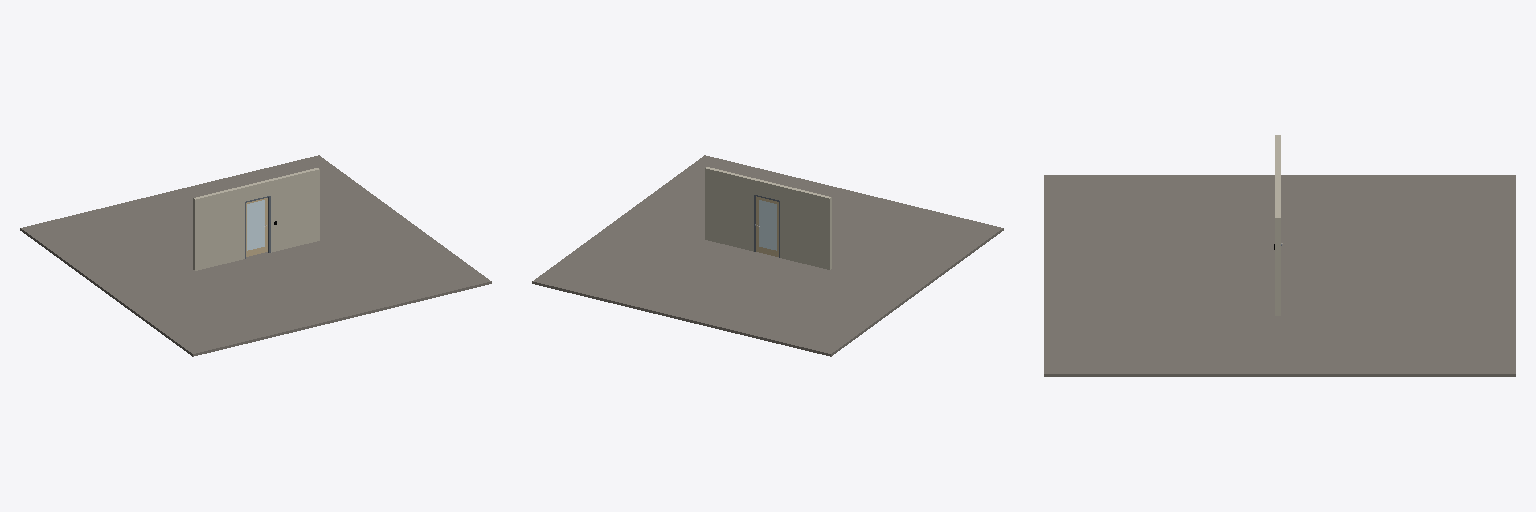
The robot description file, URDF, robot "db0800_swing_single_simple":
<?xml version="1.0" ?>
<robot xmlns:doorbench="https://github.com/adamraudonis/DoorBench/schema/urdf-ext" name="db0800_swing_single_simple">
  <link name="world_env">
    <visual name="floor_vis">
      <origin xyz="0 0 -0.05" rpy="0 0 0"/>
      <geometry>
        <box size="12 12 0.1"/>
      </geometry>
      <material name="mat_floor"/>
    </visual>
    <collision name="floor_col">
      <origin xyz="0 0 -0.05" rpy="0 0 0"/>
      <geometry>
        <box size="12 12 0.1"/>
      </geometry>
    </collision>
    <visual name="wall_left_vis">
      <origin xyz="-1.50525 -0.0435 1.3735" rpy="0 0 0"/>
      <geometry>
        <box size="1.9895 0.145 2.747"/>
      </geometry>
      <material name="mat_wall"/>
    </visual>
    <collision name="wall_left_col">
      <origin xyz="-1.50525 -0.0435 1.3735" rpy="0 0 0"/>
      <geometry>
        <box size="1.9895 0.145 2.747"/>
      </geometry>
    </collision>
    <visual name="wall_right_vis">
      <origin xyz="1.52025 -0.0435 1.3735" rpy="0 0 0"/>
      <geometry>
        <box size="1.9595 0.145 2.747"/>
      </geometry>
      <material name="mat_wall"/>
    </visual>
    <collision name="wall_right_col">
      <origin xyz="1.52025 -0.0435 1.3735" rpy="0 0 0"/>
      <geometry>
        <box size="1.9595 0.145 2.747"/>
      </geometry>
    </collision>
    <visual name="wall_header_vis">
      <origin xyz="0.015 -0.0435 2.487" rpy="0 0 0"/>
      <geometry>
        <box size="1.051 0.145 0.52"/>
      </geometry>
      <material name="mat_wall"/>
    </visual>
    <collision name="wall_header_col">
      <origin xyz="0.015 -0.0435 2.487" rpy="0 0 0"/>
      <geometry>
        <box size="1.051 0.145 0.52"/>
      </geometry>
    </collision>
    <visual name="hinge_0_jamb_vis">
      <origin xyz="-0.4575 0.029 0.259" rpy="3.141593 0 0"/>
      <geometry>
        <mesh filename="../../hardware/hinge_jamb_e1d088f8dc.obj"/>
      </geometry>
      <material name="mat_hinge"/>
    </visual>
    <visual name="hinge_1_jamb_vis">
      <origin xyz="-0.4575 0.029 1.076" rpy="3.141593 0 0"/>
      <geometry>
        <mesh filename="../../hardware/hinge_jamb_e1d088f8dc.obj"/>
      </geometry>
      <material name="mat_hinge"/>
    </visual>
    <visual name="hinge_2_jamb_vis">
      <origin xyz="-0.4575 0.029 1.963" rpy="3.141593 0 0"/>
      <geometry>
        <mesh filename="../../hardware/hinge_jamb_e1d088f8dc.obj"/>
      </geometry>
      <material name="mat_hinge"/>
    </visual>
    <visual name="jamb_hinge_vis">
      <origin xyz="-0.4855 -0.0435 1.0735" rpy="0 0 0"/>
      <geometry>
        <box size="0.05 0.145 2.147"/>
      </geometry>
      <material name="mat_frame"/>
    </visual>
    <collision name="jamb_hinge_col">
      <origin xyz="-0.4855 -0.0435 1.0735" rpy="0 0 0"/>
      <geometry>
        <box size="0.05 0.145 2.147"/>
      </geometry>
    </collision>
    <visual name="strike_1040_wall_n_vis">
      <origin xyz="0.5005 -0.06275 1.04" rpy="0 0 0"/>
      <geometry>
        <box size="0.08 0.1065 0.0366"/>
      </geometry>
      <material name="mat_frame"/>
    </visual>
    <collision name="strike_1040_wall_n_col">
      <origin xyz="0.5005 -0.06275 1.04" rpy="0 0 0"/>
      <geometry>
        <box size="0.08 0.1065 0.0366"/>
      </geometry>
    </collision>
    <visual name="strike_1040_wall_p_vis">
      <origin xyz="0.5005 0.0175 1.04" rpy="0 0 0"/>
      <geometry>
        <box size="0.08 0.016 0.0366"/>
      </geometry>
      <material name="mat_frame"/>
    </visual>
    <collision name="strike_1040_wall_p_col">
      <origin xyz="0.5005 0.0175 1.04" rpy="0 0 0"/>
      <geometry>
        <box size="0.08 0.016 0.0366"/>
      </geometry>
    </collision>
    <visual name="strike_1040_ramp_vis">
      <origin xyz="0.503782 0.018312 1.04" rpy="0 0 -0.588003"/>
      <geometry>
        <box size="0.08 0.036056 0.0366"/>
      </geometry>
      <material name="mat_frame"/>
    </visual>
    <collision name="strike_1040_ramp_col">
      <origin xyz="0.503782 0.018312 1.04" rpy="0 0 -0.588003"/>
      <geometry>
        <box size="0.08 0.036056 0.0366"/>
      </geometry>
    </collision>
    <visual name="strike_1040_back_vis">
      <origin xyz="0.512 0 1.04" rpy="0 0 0"/>
      <geometry>
        <box size="0.057 0.019 0.0366"/>
      </geometry>
      <material name="mat_frame"/>
    </visual>
    <collision name="strike_1040_back_col">
      <origin xyz="0.512 0 1.04" rpy="0 0 0"/>
      <geometry>
        <box size="0.057 0.019 0.0366"/>
      </geometry>
    </collision>
    <visual name="jamb_strike_0_vis">
      <origin xyz="0.5005 -0.0435 0.51085" rpy="0 0 0"/>
      <geometry>
        <box size="0.08 0.145 1.0217"/>
      </geometry>
      <material name="mat_frame"/>
    </visual>
    <collision name="jamb_strike_0_col">
      <origin xyz="0.5005 -0.0435 0.51085" rpy="0 0 0"/>
      <geometry>
        <box size="0.08 0.145 1.0217"/>
      </geometry>
    </collision>
    <visual name="jamb_strike_1_vis">
      <origin xyz="0.5005 -0.0435 1.60265" rpy="0 0 0"/>
      <geometry>
        <box size="0.08 0.145 1.0887"/>
      </geometry>
      <material name="mat_frame"/>
    </visual>
    <collision name="jamb_strike_1_col">
      <origin xyz="0.5005 -0.0435 1.60265" rpy="0 0 0"/>
      <geometry>
        <box size="0.08 0.145 1.0887"/>
      </geometry>
    </collision>
    <visual name="jamb_head_vis">
      <origin xyz="0.015 -0.0435 2.172" rpy="0 0 0"/>
      <geometry>
        <box size="1.051 0.145 0.05"/>
      </geometry>
      <material name="mat_frame"/>
    </visual>
    <collision name="jamb_head_col">
      <origin xyz="0.015 -0.0435 2.172" rpy="0 0 0"/>
      <geometry>
        <box size="1.051 0.145 0.05"/>
      </geometry>
    </collision>
    <visual name="head_stud_vis">
      <origin xyz="0.015 -0.0435 2.212" rpy="0 0 0"/>
      <geometry>
        <box size="1.051 0.145 0.03"/>
      </geometry>
      <material name="mat_wall"/>
    </visual>
    <collision name="head_stud_col">
      <origin xyz="0.015 -0.0435 2.212" rpy="0 0 0"/>
      <geometry>
        <box size="1.051 0.145 0.03"/>
      </geometry>
    </collision>
    <visual name="stop_hinge_vis">
      <origin xyz="-0.455 -0.0385 1.0735" rpy="0 0 0"/>
      <geometry>
        <box size="0.011 0.032 2.147"/>
      </geometry>
      <material name="mat_frame"/>
    </visual>
    <collision name="stop_hinge_col">
      <origin xyz="-0.455 -0.0385 1.0735" rpy="0 0 0"/>
      <geometry>
        <box size="0.011 0.032 2.147"/>
      </geometry>
    </collision>
    <visual name="stop_strike_vis">
      <origin xyz="0.455 -0.0385 1.0735" rpy="0 0 0"/>
      <geometry>
        <box size="0.011 0.032 2.147"/>
      </geometry>
      <material name="mat_frame"/>
    </visual>
    <collision name="stop_strike_col">
      <origin xyz="0.455 -0.0385 1.0735" rpy="0 0 0"/>
      <geometry>
        <box size="0.011 0.032 2.147"/>
      </geometry>
    </collision>
    <visual name="stop_head_vis">
      <origin xyz="0 -0.0385 2.1415" rpy="0 0 0"/>
      <geometry>
        <box size="0.921 0.032 0.011"/>
      </geometry>
      <material name="mat_frame"/>
    </visual>
    <collision name="stop_head_col">
      <origin xyz="0 -0.0385 2.1415" rpy="0 0 0"/>
      <geometry>
        <box size="0.921 0.032 0.011"/>
      </geometry>
    </collision>
    <visual name="seal_hinge_vis">
      <origin xyz="-0.4575 -0.024 1.0735" rpy="0 0 0"/>
      <geometry>
        <box size="0.008 0.004 2.147"/>
      </geometry>
      <material name="mat_seal"/>
    </visual>
    <visual name="seal_strike_vis">
      <origin xyz="0.4575 -0.024 1.0735" rpy="0 0 0"/>
      <geometry>
        <box size="0.008 0.004 2.147"/>
      </geometry>
      <material name="mat_seal"/>
    </visual>
    <visual name="seal_head_vis">
      <origin xyz="0 -0.024 2.135" rpy="0 0 0"/>
      <geometry>
        <box size="0.881 0.004 0.016"/>
      </geometry>
      <material name="mat_seal"/>
    </visual>
    <visual name="wall_reader_vis">
      <origin xyz="0.7105 -0.131 1.1" rpy="0 0 0"/>
      <geometry>
        <box size="0.08 0.03 0.12"/>
      </geometry>
      <material name="mat_wallreader"/>
    </visual>
    <collision name="wall_reader_col">
      <origin xyz="0.7105 -0.131 1.1" rpy="0 0 0"/>
      <geometry>
        <box size="0.08 0.03 0.12"/>
      </geometry>
    </collision>
  </link>
  <link name="leaf">
    <inertial>
      <origin xyz="0.441035 -0.02836 1.076988" rpy="0 0 0"/>
      <mass value="40.490862"/>
      <inertia ixx="15.501971616" ixy="0.011423275" ixz="0.015320345" iyy="18.506692084" iyz="-0.000578674" izz="3.018900363"/>
    </inertial>
    <visual name="leaf_slab_vis">
      <origin xyz="0.457 -0.029 1.076" rpy="0 0 0"/>
      <geometry>
        <box size="0.914 0.044 2.134"/>
      </geometry>
      <material name="mat_leaf"/>
    </visual>
    <collision name="leaf_slab_col">
      <origin xyz="0.457 -0.029 1.076" rpy="0 0 0"/>
      <geometry>
        <box size="0.914 0.044 2.134"/>
      </geometry>
    </collision>
    <visual name="leaf_glass_0_vis">
      <origin xyz="0.457 -0.029 1.14002" rpy="0 0 0"/>
      <geometry>
        <box size="0.71292 0.0456 1.79256"/>
      </geometry>
      <material name="mat_glass"/>
    </visual>
    <visual name="hinge_0_vis">
      <origin xyz="0 0 0.259" rpy="3.141593 0 0"/>
      <geometry>
        <mesh filename="../../hardware/hinge_e22b26c0c1.obj"/>
      </geometry>
      <material name="mat_hinge"/>
    </visual>
    <visual name="hinge_1_vis">
      <origin xyz="0 0 1.076" rpy="3.141593 0 0"/>
      <geometry>
        <mesh filename="../../hardware/hinge_e22b26c0c1.obj"/>
      </geometry>
      <material name="mat_hinge"/>
    </visual>
    <visual name="hinge_2_vis">
      <origin xyz="0 0 1.963" rpy="3.141593 0 0"/>
      <geometry>
        <mesh filename="../../hardware/hinge_e22b26c0c1.obj"/>
      </geometry>
      <material name="mat_hinge"/>
    </visual>
    <visual name="leaf_latch_bolt_faceplate_vis">
      <origin xyz="0.9134 -0.029 1.04" rpy="0 0 0"/>
      <geometry>
        <box size="0.0012 0.028 0.0566"/>
      </geometry>
      <material name="mat_bolt"/>
    </visual>
  </link>
  <link name="leaf_handle">
    <inertial>
      <origin xyz="-0.030188 0 0" rpy="0 0 0"/>
      <mass value="0.924918"/>
      <inertia ixx="0.003587995" ixy="0" ixz="0" iyy="0.001725188" iyz="0" izz="0.005135939"/>
    </inertial>
    <visual name="leaf_handle_lever_n_vis">
      <origin xyz="0 -0.022 0" rpy="1.570796 0 0"/>
      <geometry>
        <mesh filename="../../hardware/lever_9f02b544cf.obj"/>
      </geometry>
      <material name="mat_op_nickel_satin"/>
    </visual>
    <collision name="leaf_handle_lever_col_n_col">
      <origin xyz="-0.0625 -0.077 0" rpy="0 -1.570796 0"/>
      <geometry>
        <cylinder radius="0.0095" length="0.106"/>
      </geometry>
    </collision>
    <collision name="leaf_handle_hub_col_n_col">
      <origin xyz="0 -0.052 0" rpy="-1.570796 0 0"/>
      <geometry>
        <cylinder radius="0.012" length="0.044"/>
      </geometry>
    </collision>
    <visual name="leaf_handle_lever_p_vis">
      <origin xyz="0 0.022 0" rpy="-1.570796 0 0"/>
      <geometry>
        <mesh filename="../../hardware/lever_9f02b544cf.obj"/>
      </geometry>
      <material name="mat_op_nickel_satin"/>
    </visual>
    <collision name="leaf_handle_lever_col_p_col">
      <origin xyz="-0.0625 0.077 0" rpy="0 -1.570796 0"/>
      <geometry>
        <cylinder radius="0.0095" length="0.106"/>
      </geometry>
    </collision>
    <collision name="leaf_handle_hub_col_p_col">
      <origin xyz="0 0.052 0" rpy="-1.570796 0 0"/>
      <geometry>
        <cylinder radius="0.012" length="0.044"/>
      </geometry>
    </collision>
  </link>
  <link name="leaf_latch_bolt">
    <inertial>
      <origin xyz="-0.0055 0 0" rpy="0 0 0"/>
      <mass value="0.074627"/>
      <inertia ixx="0.000002271" ixy="0" ixz="0" iyy="0.000013255" iyz="0" izz="0.000013255"/>
    </inertial>
    <visual name="leaf_latch_bolt_capsule_vis">
      <origin xyz="-0.0055 0 0" rpy="0 1.570796 0"/>
      <geometry>
        <cylinder radius="0.008" length="0.033"/>
      </geometry>
      <material name="mat_bolt"/>
    </visual>
    <collision name="leaf_latch_bolt_capsule_col">
      <origin xyz="-0.0055 0 0" rpy="0 1.570796 0"/>
      <geometry>
        <cylinder radius="0.008" length="0.033"/>
      </geometry>
    </collision>
  </link>
  <joint name="leaf_hinge" type="revolute">
    <origin xyz="-0.4575 0.029 0" rpy="0 0 0"/>
    <parent link="world_env"/>
    <child link="leaf"/>
    <axis xyz="0 0 1"/>
    <limit lower="0" upper="1.745329" effort="2000" velocity="10"/>
    <dynamics damping="0.318966" friction="0.599096"/>
    <doorbench:closer damping_closing="0" damping_opening="0" backcheck_angle="0" backcheck_damping="0"/>
  </joint>
  <joint name="leaf_handle_hinge" type="revolute">
    <origin xyz="0.844 -0.029 1.04" rpy="0 0 0"/>
    <parent link="leaf"/>
    <child link="leaf_handle"/>
    <axis xyz="0 -1 0"/>
    <limit lower="0" upper="0.96" effort="2000" velocity="10"/>
    <dynamics damping="0.245624" friction="0.048"/>
    <doorbench:spring stiffness="1.2" springref="-0.458333" note="tau = -stiffness*(q - springref); not native URDF"/>
  </joint>
  <joint name="leaf_latch_bolt_slide" type="prismatic">
    <origin xyz="0.914 -0.029 1.04" rpy="0 0 0"/>
    <parent link="leaf"/>
    <child link="leaf_latch_bolt"/>
    <axis xyz="-1 0 0"/>
    <limit lower="0" upper="0.019" effort="5000" velocity="10"/>
    <dynamics damping="2" friction="0.3"/>
    <doorbench:spring stiffness="600" springref="-0.01" note="tau = -stiffness*(q - springref); not native URDF"/>
    <mimic joint="leaf_handle_hinge" multiplier="0.020879" offset="0"/>
    <doorbench:coupling one_sided="true" note="MJCF uses a one-sided tendon (bolt may retract further, e.g. riding over the strike lip); mimic is bilateral"/>
  </joint>
  <material name="mat_bolt">
    <color rgba="0.85 0.66 0.3 1"/>
  </material>
  <material name="mat_floor">
    <color rgba="0.55 0.53 0.5 1"/>
  </material>
  <material name="mat_frame">
    <color rgba="0.45 0.48 0.52 1"/>
  </material>
  <material name="mat_glass">
    <color rgba="0.85 0.92 0.95 0.25"/>
  </material>
  <material name="mat_hinge">
    <color rgba="0.65 0.66 0.68 1"/>
  </material>
  <material name="mat_leaf">
    <color rgba="0.82 0.75 0.62 1"/>
  </material>
  <material name="mat_op_nickel_satin">
    <color rgba="0.72 0.7 0.66 1"/>
  </material>
  <material name="mat_seal">
    <color rgba="0.1 0.1 0.1 1"/>
  </material>
  <material name="mat_wall">
    <color rgba="0.78 0.76 0.7 1"/>
  </material>
  <material name="mat_wallreader">
    <color rgba="0.05 0.05 0.05 1"/>
  </material>
</robot>

--- What the picture shows (computed from the rendered views, not written in the file) ---
3 views of the same robot in one strip: view 1: azimuth 30°, elevation 25°; view 2: azimuth 150°, elevation 25°; view 3: azimuth 270°, elevation 25° (orthographic).
Robot: db0800_swing_single_simple — 4 links, 3 joints (2 revolute, 1 prismatic); root link world_env; default pose: every joint at zero.
Visible links, largest first — view 1: world_env, leaf; view 2: world_env, leaf; view 3: world_env.
Boxes of the visible links, <box> form: world_env: <box>20,155,491,356</box>; leaf: <box>246,198,267,256</box>; world_env: <box>532,155,1003,356</box>; leaf: <box>756,196,778,256</box>; world_env: <box>1044,135,1515,376</box>.
Bounding box of the posed robot: 12 × 12 × 2.85 m (x, y, z).
Meshes: 3 distinct files referenced, 8 mesh visuals loaded (3 OBJ).
